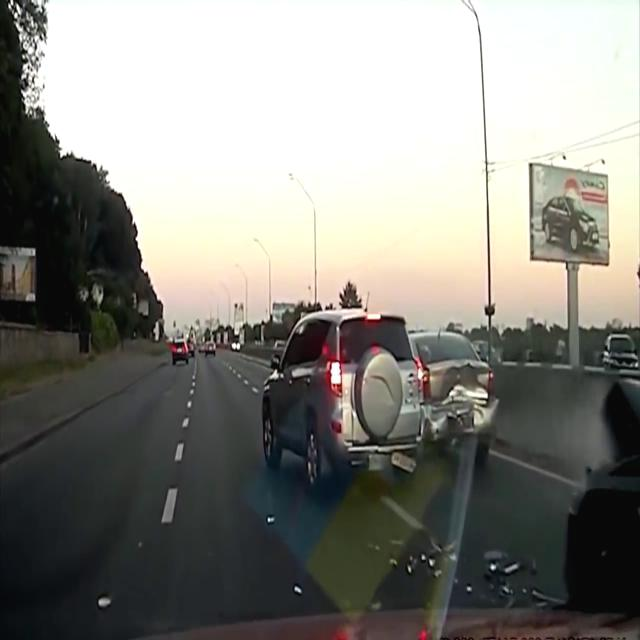accident: (262, 310, 496, 492)
